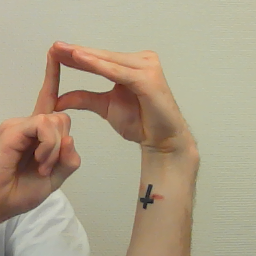P: (4, 39, 191, 196)
